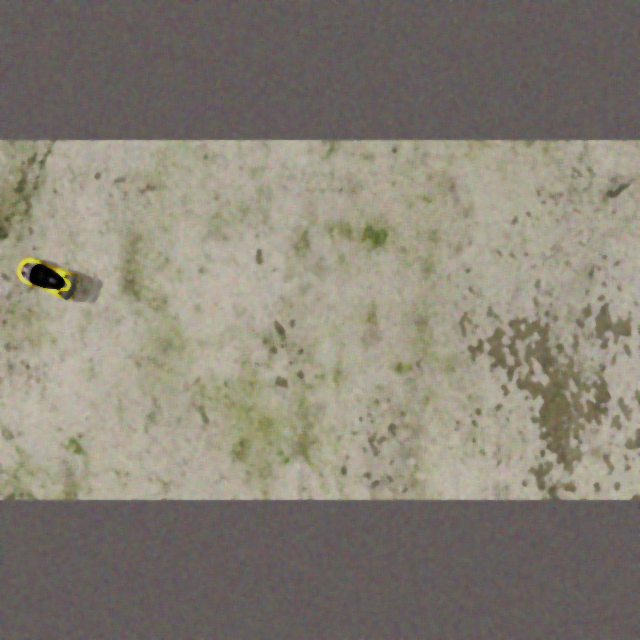car: (6, 250, 87, 303)
